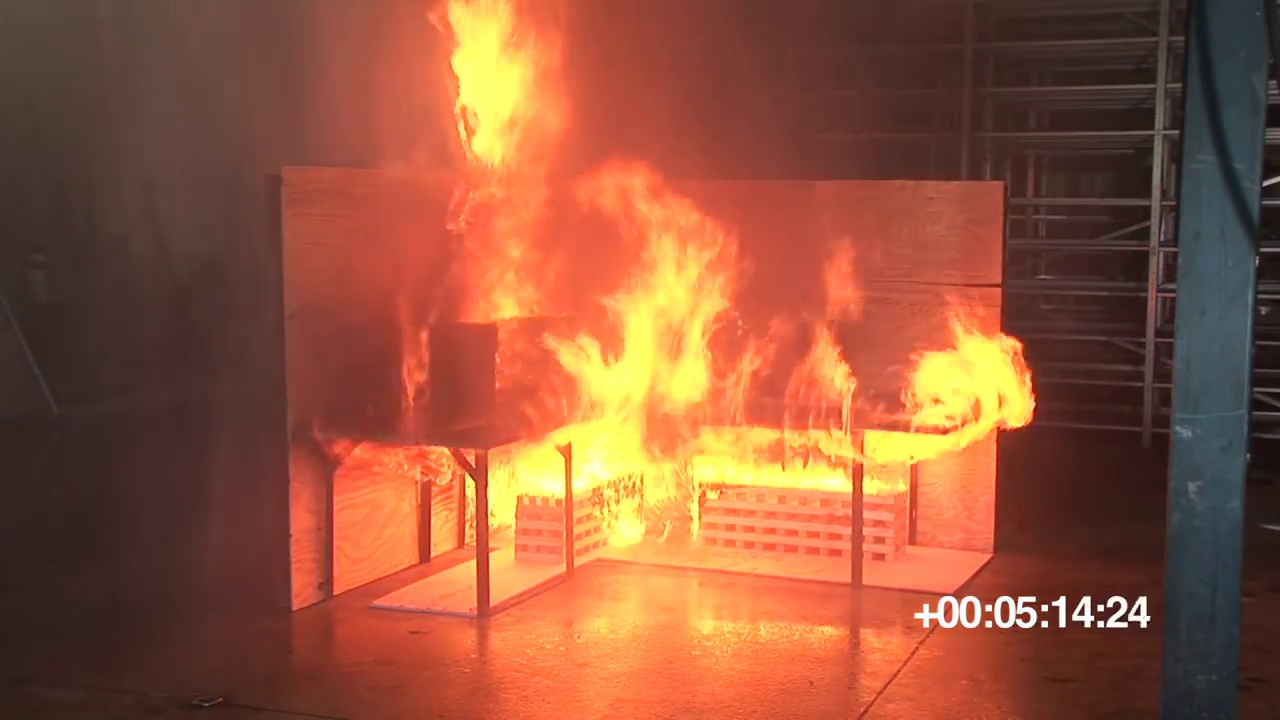fire: (558, 213, 731, 415), (476, 418, 918, 492), (900, 328, 1034, 435), (450, 3, 531, 159), (606, 507, 641, 543)
